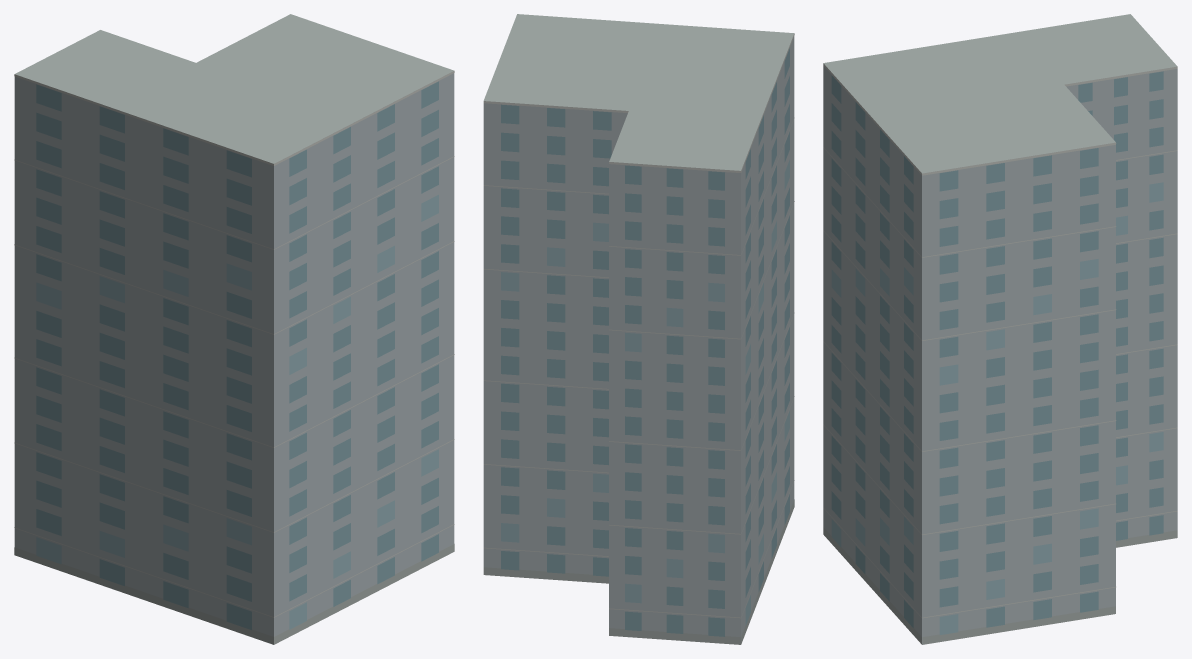
The model's file is residential-9313e1f4-1b20-4b7d-8571-c9e16bf0f495.glb.
3 views of the same model, side by side, from view 1: azimuth 30°, elevation 25°; view 2: azimuth 150°, elevation 25°; view 3: azimuth 270°, elevation 25° (orthographic). The views are drawn at different scales.
Parts seen in each view (by area): view 1: residential-9313e1f4-1b20-4b7d-8571-c9e16bf0f495.tmp; view 2: residential-9313e1f4-1b20-4b7d-8571-c9e16bf0f495.tmp; view 3: residential-9313e1f4-1b20-4b7d-8571-c9e16bf0f495.tmp.
Boxes of the visible parts, x1=… form: residential-9313e1f4-1b20-4b7d-8571-c9e16bf0f495.tmp: x1=14, y1=14, x2=454, y2=644; residential-9313e1f4-1b20-4b7d-8571-c9e16bf0f495.tmp: x1=483, y1=14, x2=794, y2=644; residential-9313e1f4-1b20-4b7d-8571-c9e16bf0f495.tmp: x1=823, y1=14, x2=1177, y2=644.
Bounding box in the file's own units: 37.66 × 51.85 × 35.35.
